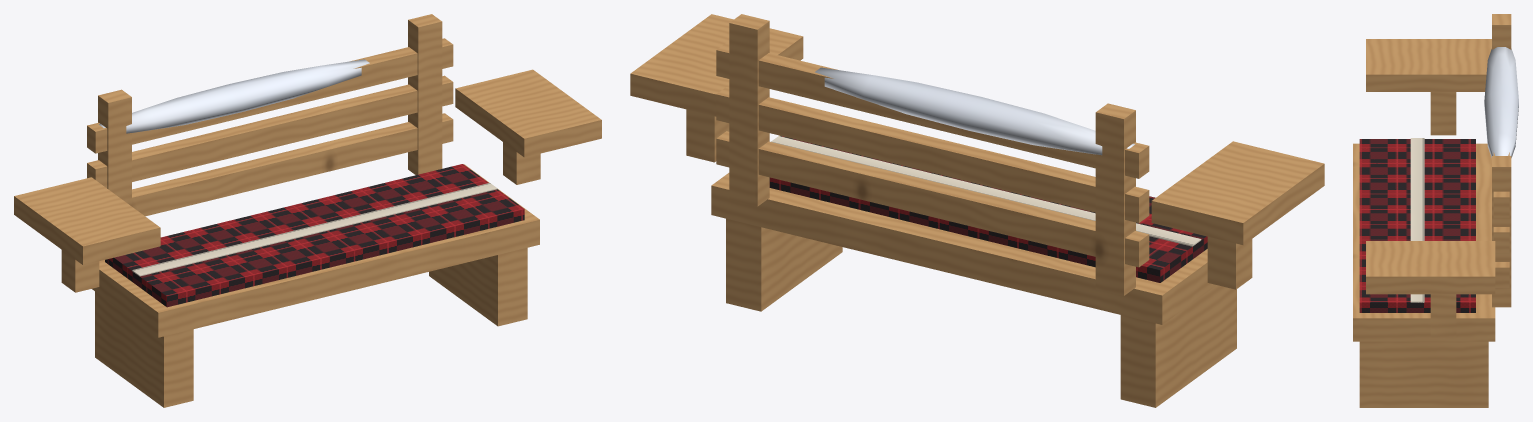
File: dock-bench.glb
The picture shows the model from 3 angles, left to right: view 1: azimuth 30°, elevation 25°; view 2: azimuth 150°, elevation 25°; view 3: azimuth 270°, elevation 25°; orthographic projection. The views are drawn at different scales.
Visible parts, largest first — view 1: Bench, BenchCushion, BenchSnow, BenchCushionStripe; view 2: Bench, BenchSnow, BenchCushion, BenchCushionStripe; view 3: Bench, BenchCushion, BenchSnow, BenchCushionStripe.
Boxes of the visible parts, x1=… form: Bench: x1=14, y1=14, x2=601, y2=407; BenchCushion: x1=105, y1=164, x2=524, y2=307; BenchSnow: x1=99, y1=59, x2=369, y2=133; BenchCushionStripe: x1=132, y1=183, x2=497, y2=276; Bench: x1=630, y1=14, x2=1324, y2=407; BenchSnow: x1=815, y1=67, x2=1134, y2=155; BenchCushion: x1=769, y1=136, x2=1207, y2=282; BenchCushionStripe: x1=771, y1=136, x2=1201, y2=246; Bench: x1=1353, y1=14, x2=1511, y2=407; BenchCushion: x1=1359, y1=139, x2=1475, y2=312; BenchSnow: x1=1484, y1=47, x2=1518, y2=157; BenchCushionStripe: x1=1410, y1=138, x2=1424, y2=302.
Bounding box in the file's own units: 0.087 × 0.04 × 0.0257.
Materials: 4 (4 with a texture image).
